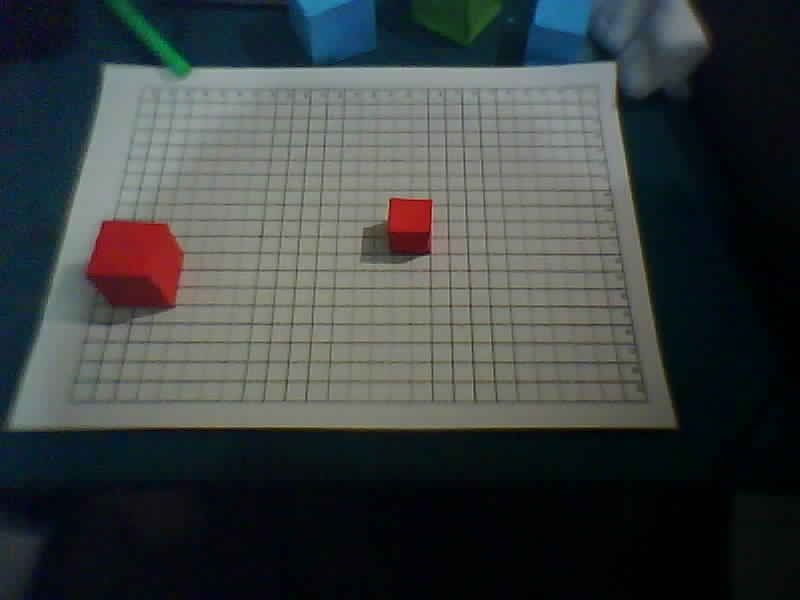LB: (66, 399, 74, 405)
LT: (139, 83, 147, 89)
RB: (643, 397, 651, 403)
RT: (593, 84, 601, 90)
